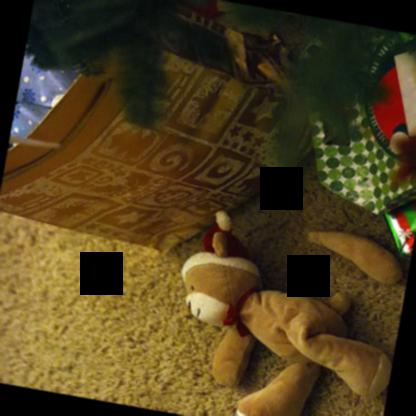handbag: (0, 1, 311, 261)
